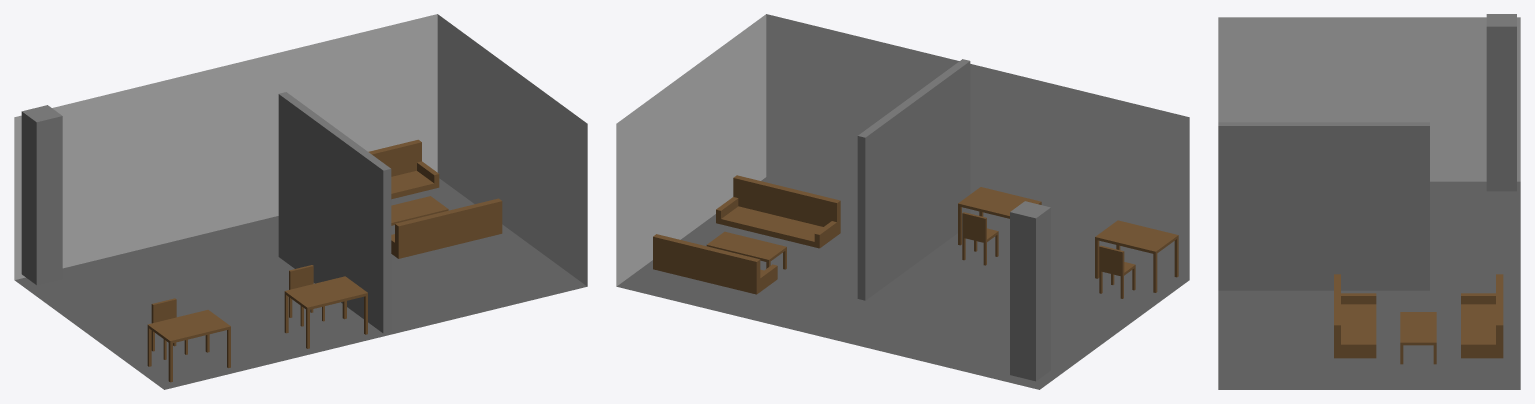
Rendered from nobedroom.glb.
The picture shows the model from 3 angles, left to right: view 1: azimuth 30°, elevation 25°; view 2: azimuth 150°, elevation 25°; view 3: azimuth 270°, elevation 25°; orthographic projection.
Visible parts, largest first — view 1: walls, floor, partition_a, Sofa, pillar_zone1, TableChair; view 2: walls, floor, partition_a, Sofa, pillar_zone1, TableChair; view 3: partition_a, floor, walls, Sofa, pillar_zone1.
Boxes of the visible parts, <box> form: walls: <box>14,14,587,286</box>; floor: <box>15,178,587,389</box>; partition_a: <box>278,92,391,333</box>; Sofa: <box>368,139,502,258</box>; pillar_zone1: <box>21,105,62,285</box>; TableChair: <box>147,265,367,382</box>; walls: <box>616,14,1189,286</box>; floor: <box>616,177,1188,389</box>; partition_a: <box>857,59,970,300</box>; Sofa: <box>653,175,840,294</box>; pillar_zone1: <box>1010,201,1050,381</box>; TableChair: <box>958,187,1178,298</box>; partition_a: <box>1218,122,1429,290</box>; floor: <box>1218,181,1520,389</box>; walls: <box>1218,17,1520,181</box>; Sofa: <box>1334,274,1503,364</box>; pillar_zone1: <box>1486,14,1516,191</box>.
Bounding box in the file's own units: 8.15 × 3.11 × 5.
